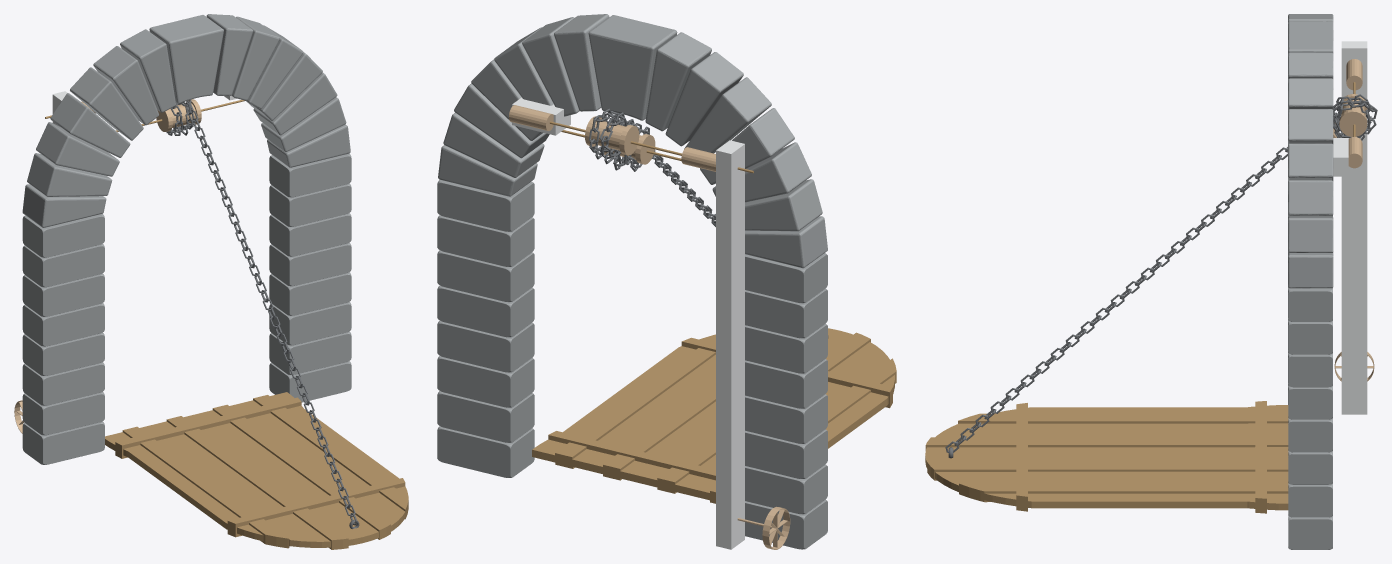
File: Finished Bridge(tall and chains).fbx
3 renders of one model, left to right at view 1: azimuth 30°, elevation 25°; view 2: azimuth 150°, elevation 25°; view 3: azimuth 270°, elevation 25°, orthographic. The views are drawn at different scales.
Visible parts, largest first — view 1: obj_0.004, obj_0.007, Cube.001, Cube, Torus.001, obj_0.006; view 2: obj_0.004, Cube, obj_0.007, Cube.001, obj_0.001, obj_0.005, obj_0.002, Torus.001, obj_0.006; view 3: obj_0.007, obj_0.004, Cube, obj_0.001, Torus.001, obj_0.005.
Part boxes in pixels (x1,y1,x2,y2): obj_0.004: (22,14,350,227); obj_0.007: (105,392,408,549); Cube.001: (22,213,104,464); Cube: (269,153,351,402); Torus.001: (183,99,357,525); obj_0.006: (116,99,245,131); obj_0.004: (438,14,827,268); Cube: (437,180,534,477); obj_0.007: (532,328,896,503); Cube.001: (745,253,827,549); obj_0.001: (509,97,744,549); obj_0.005: (585,116,639,155); obj_0.002: (737,506,790,549); Torus.001: (607,110,715,226); obj_0.006: (561,130,681,164); obj_0.007: (925,401,1288,513); obj_0.004: (1288,14,1333,288); Cube: (1288,288,1332,549); obj_0.001: (1333,41,1367,414); Torus.001: (945,101,1340,452); obj_0.005: (1339,94,1367,136).
Bounding box in the file's own units: 16819 × 20412 × 19388.
